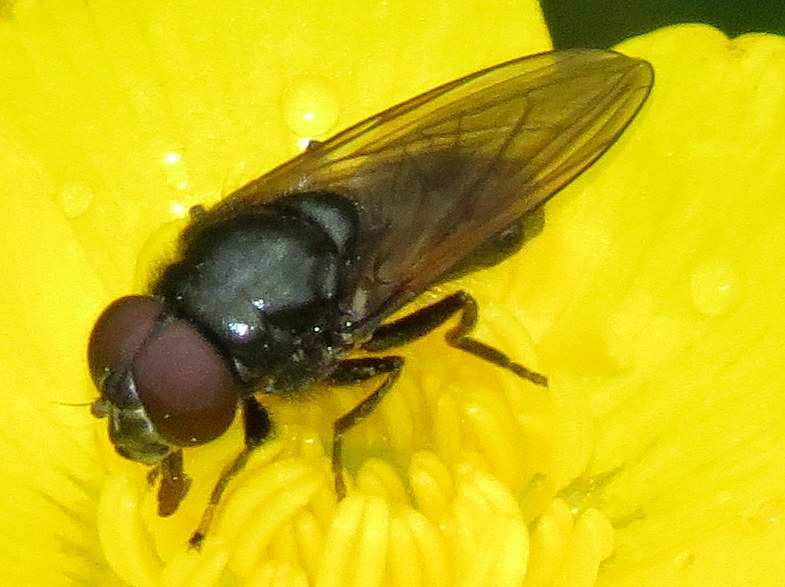not_bumblebee: (50, 46, 656, 552)
